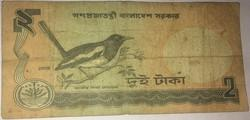2 taka: (1, 2, 250, 111)
